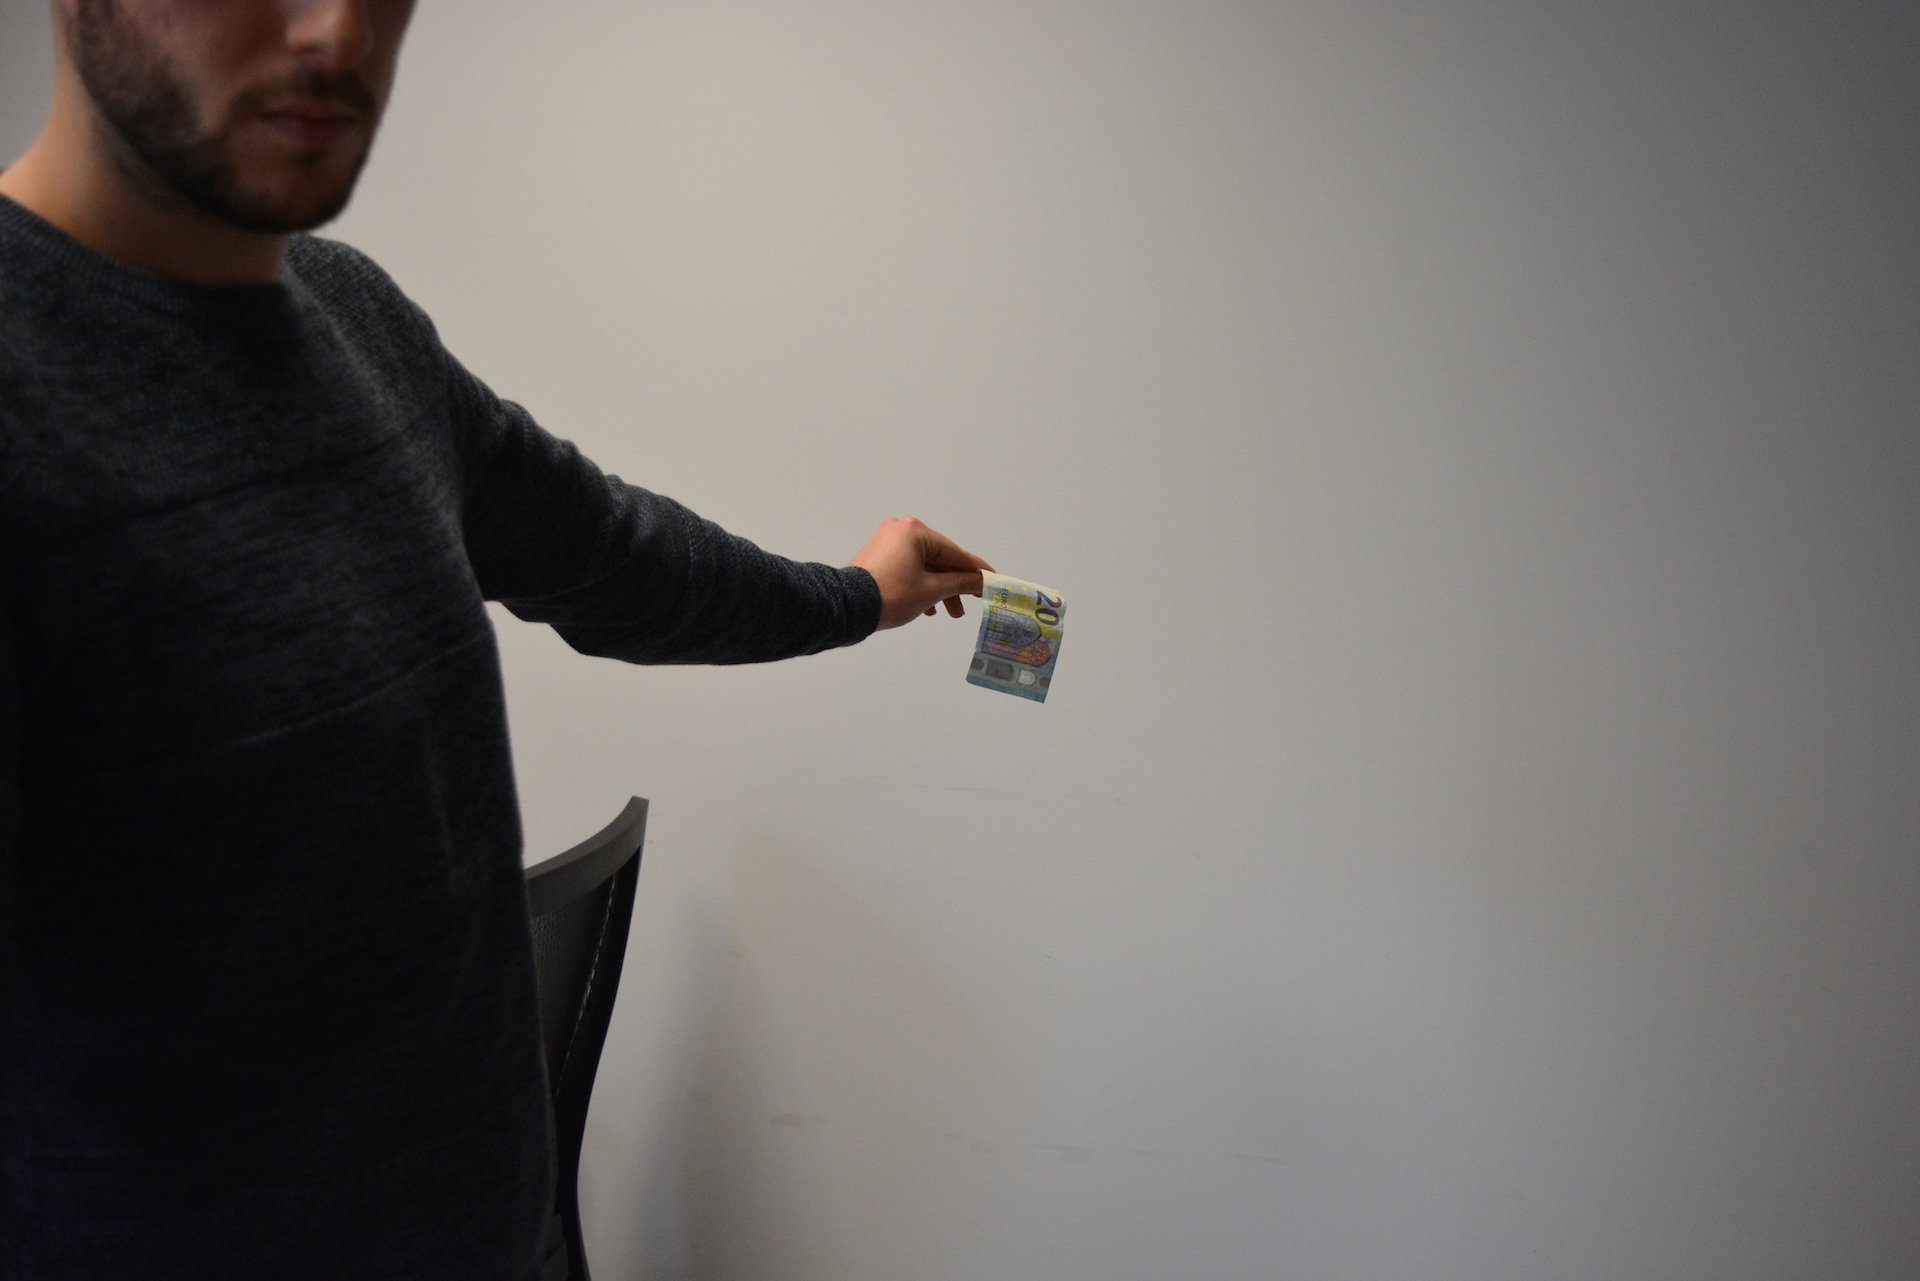billete: (964, 566, 1068, 705)
